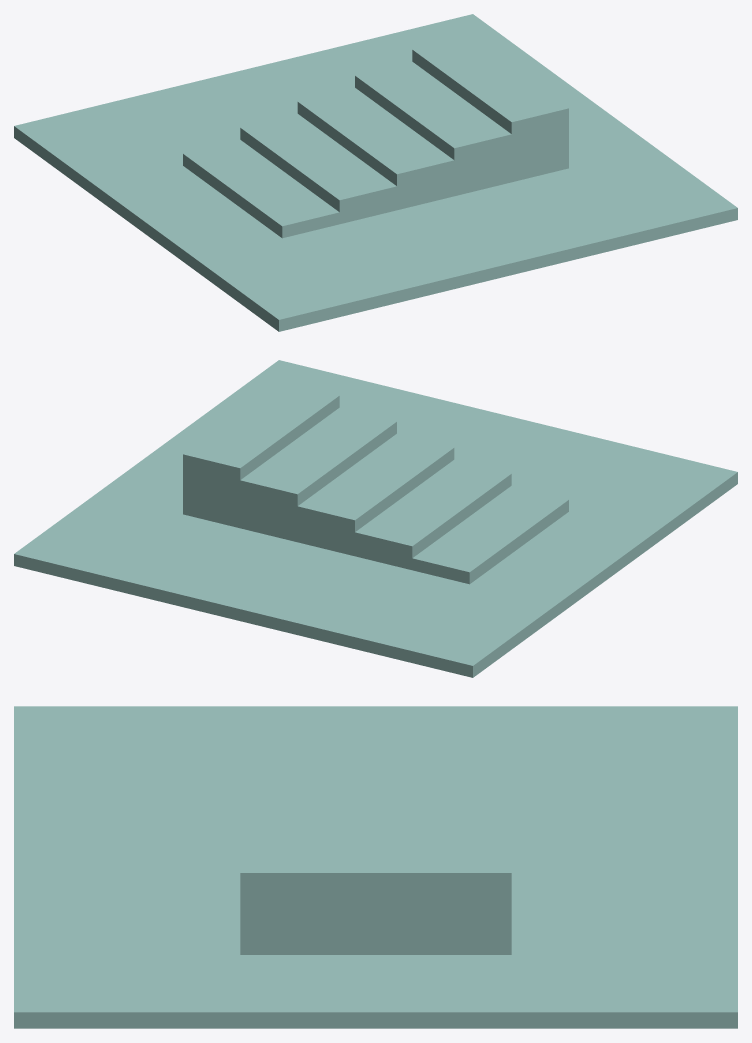
File: tile-1.gltf
3 views of the same model, one above another, from view 1: azimuth 30°, elevation 25°; view 2: azimuth 150°, elevation 25°; view 3: azimuth 270°, elevation 25° (orthographic). The views are drawn at different scales.
Size of the model in its own units: 8 by 1.2 by 8.
